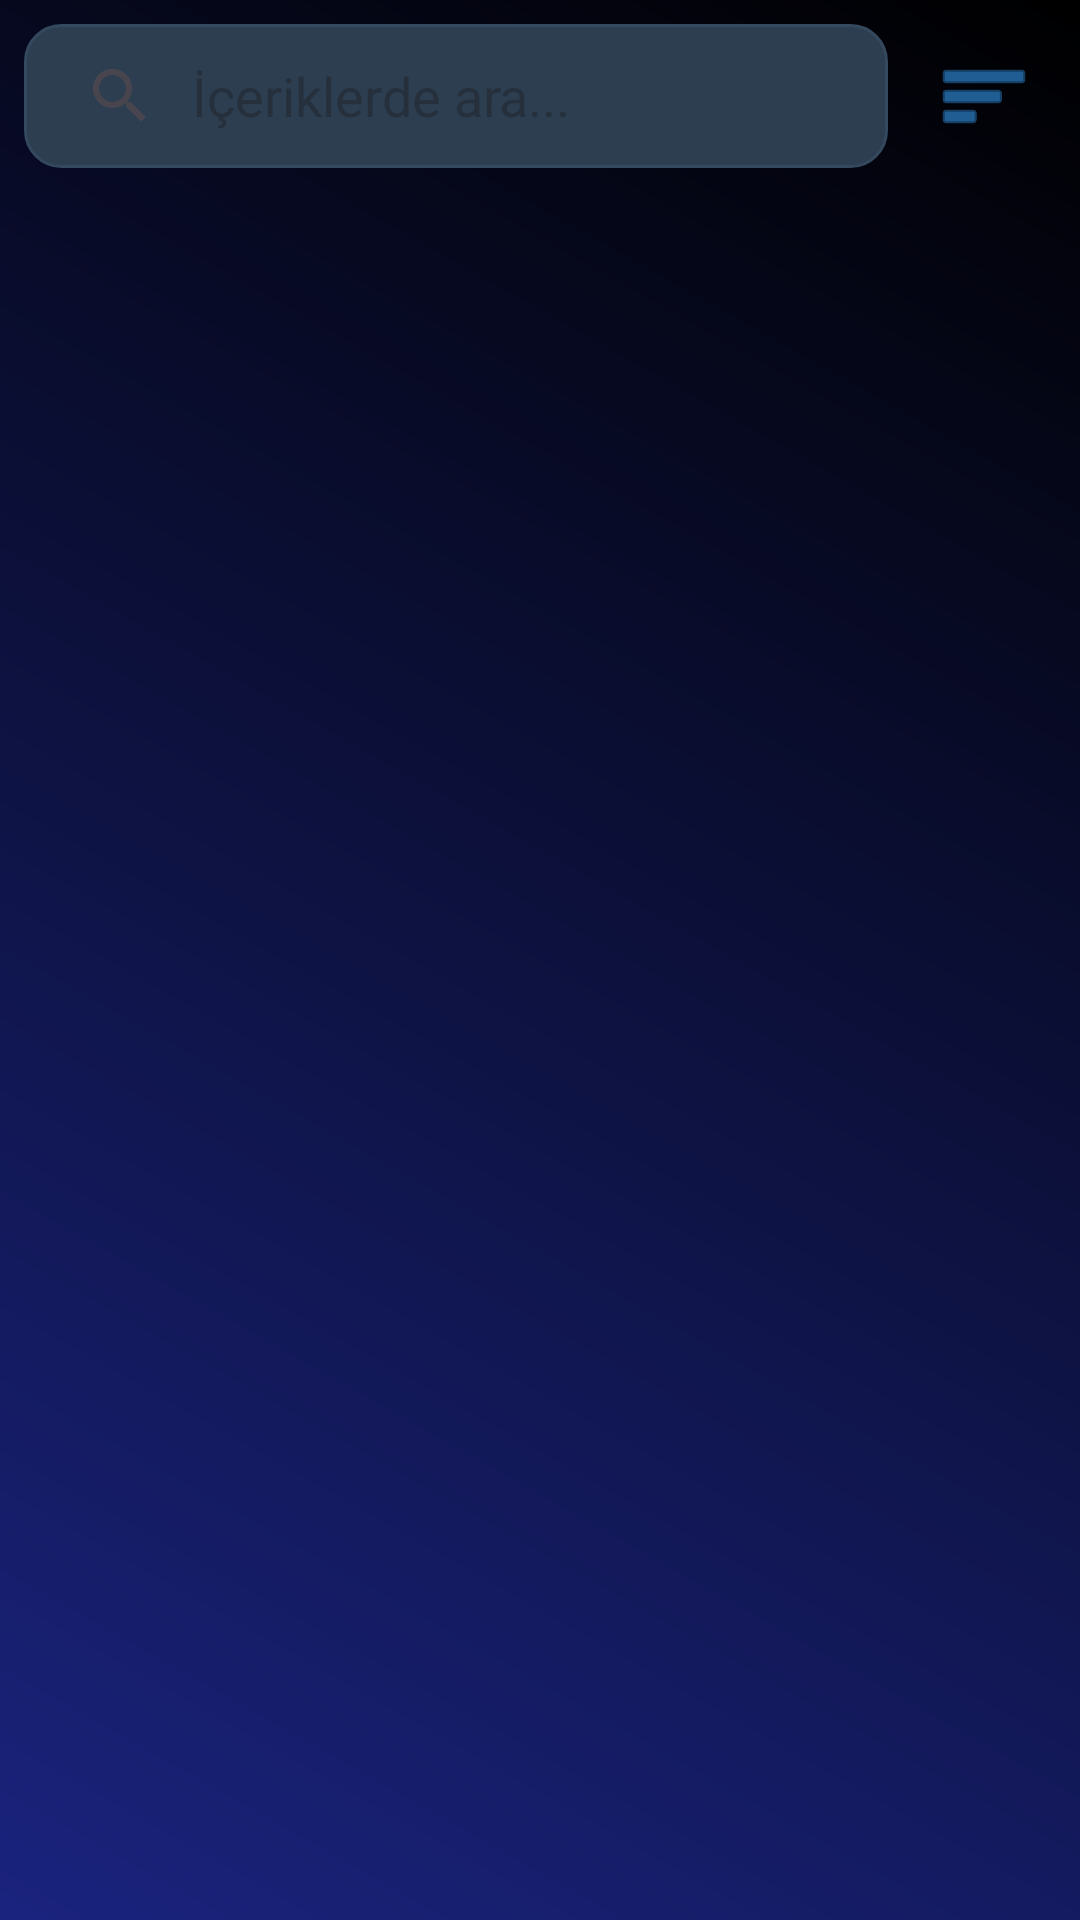

Where icons sit on this 1080px x 1920px app screen, as (x1, y1, x2, y2):
sort by size: (942, 69, 1025, 124)
